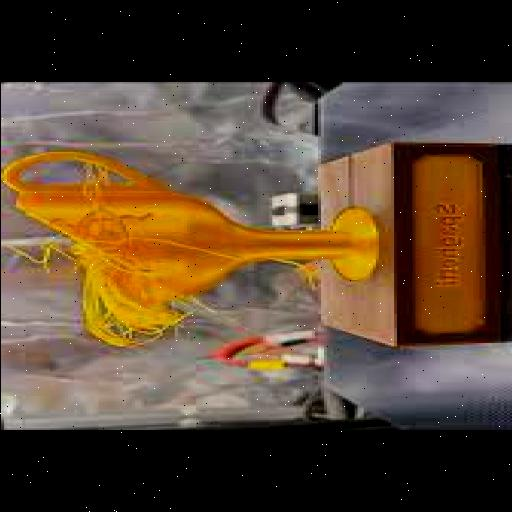spaghetti: (22, 240, 194, 346), (72, 160, 120, 238)
